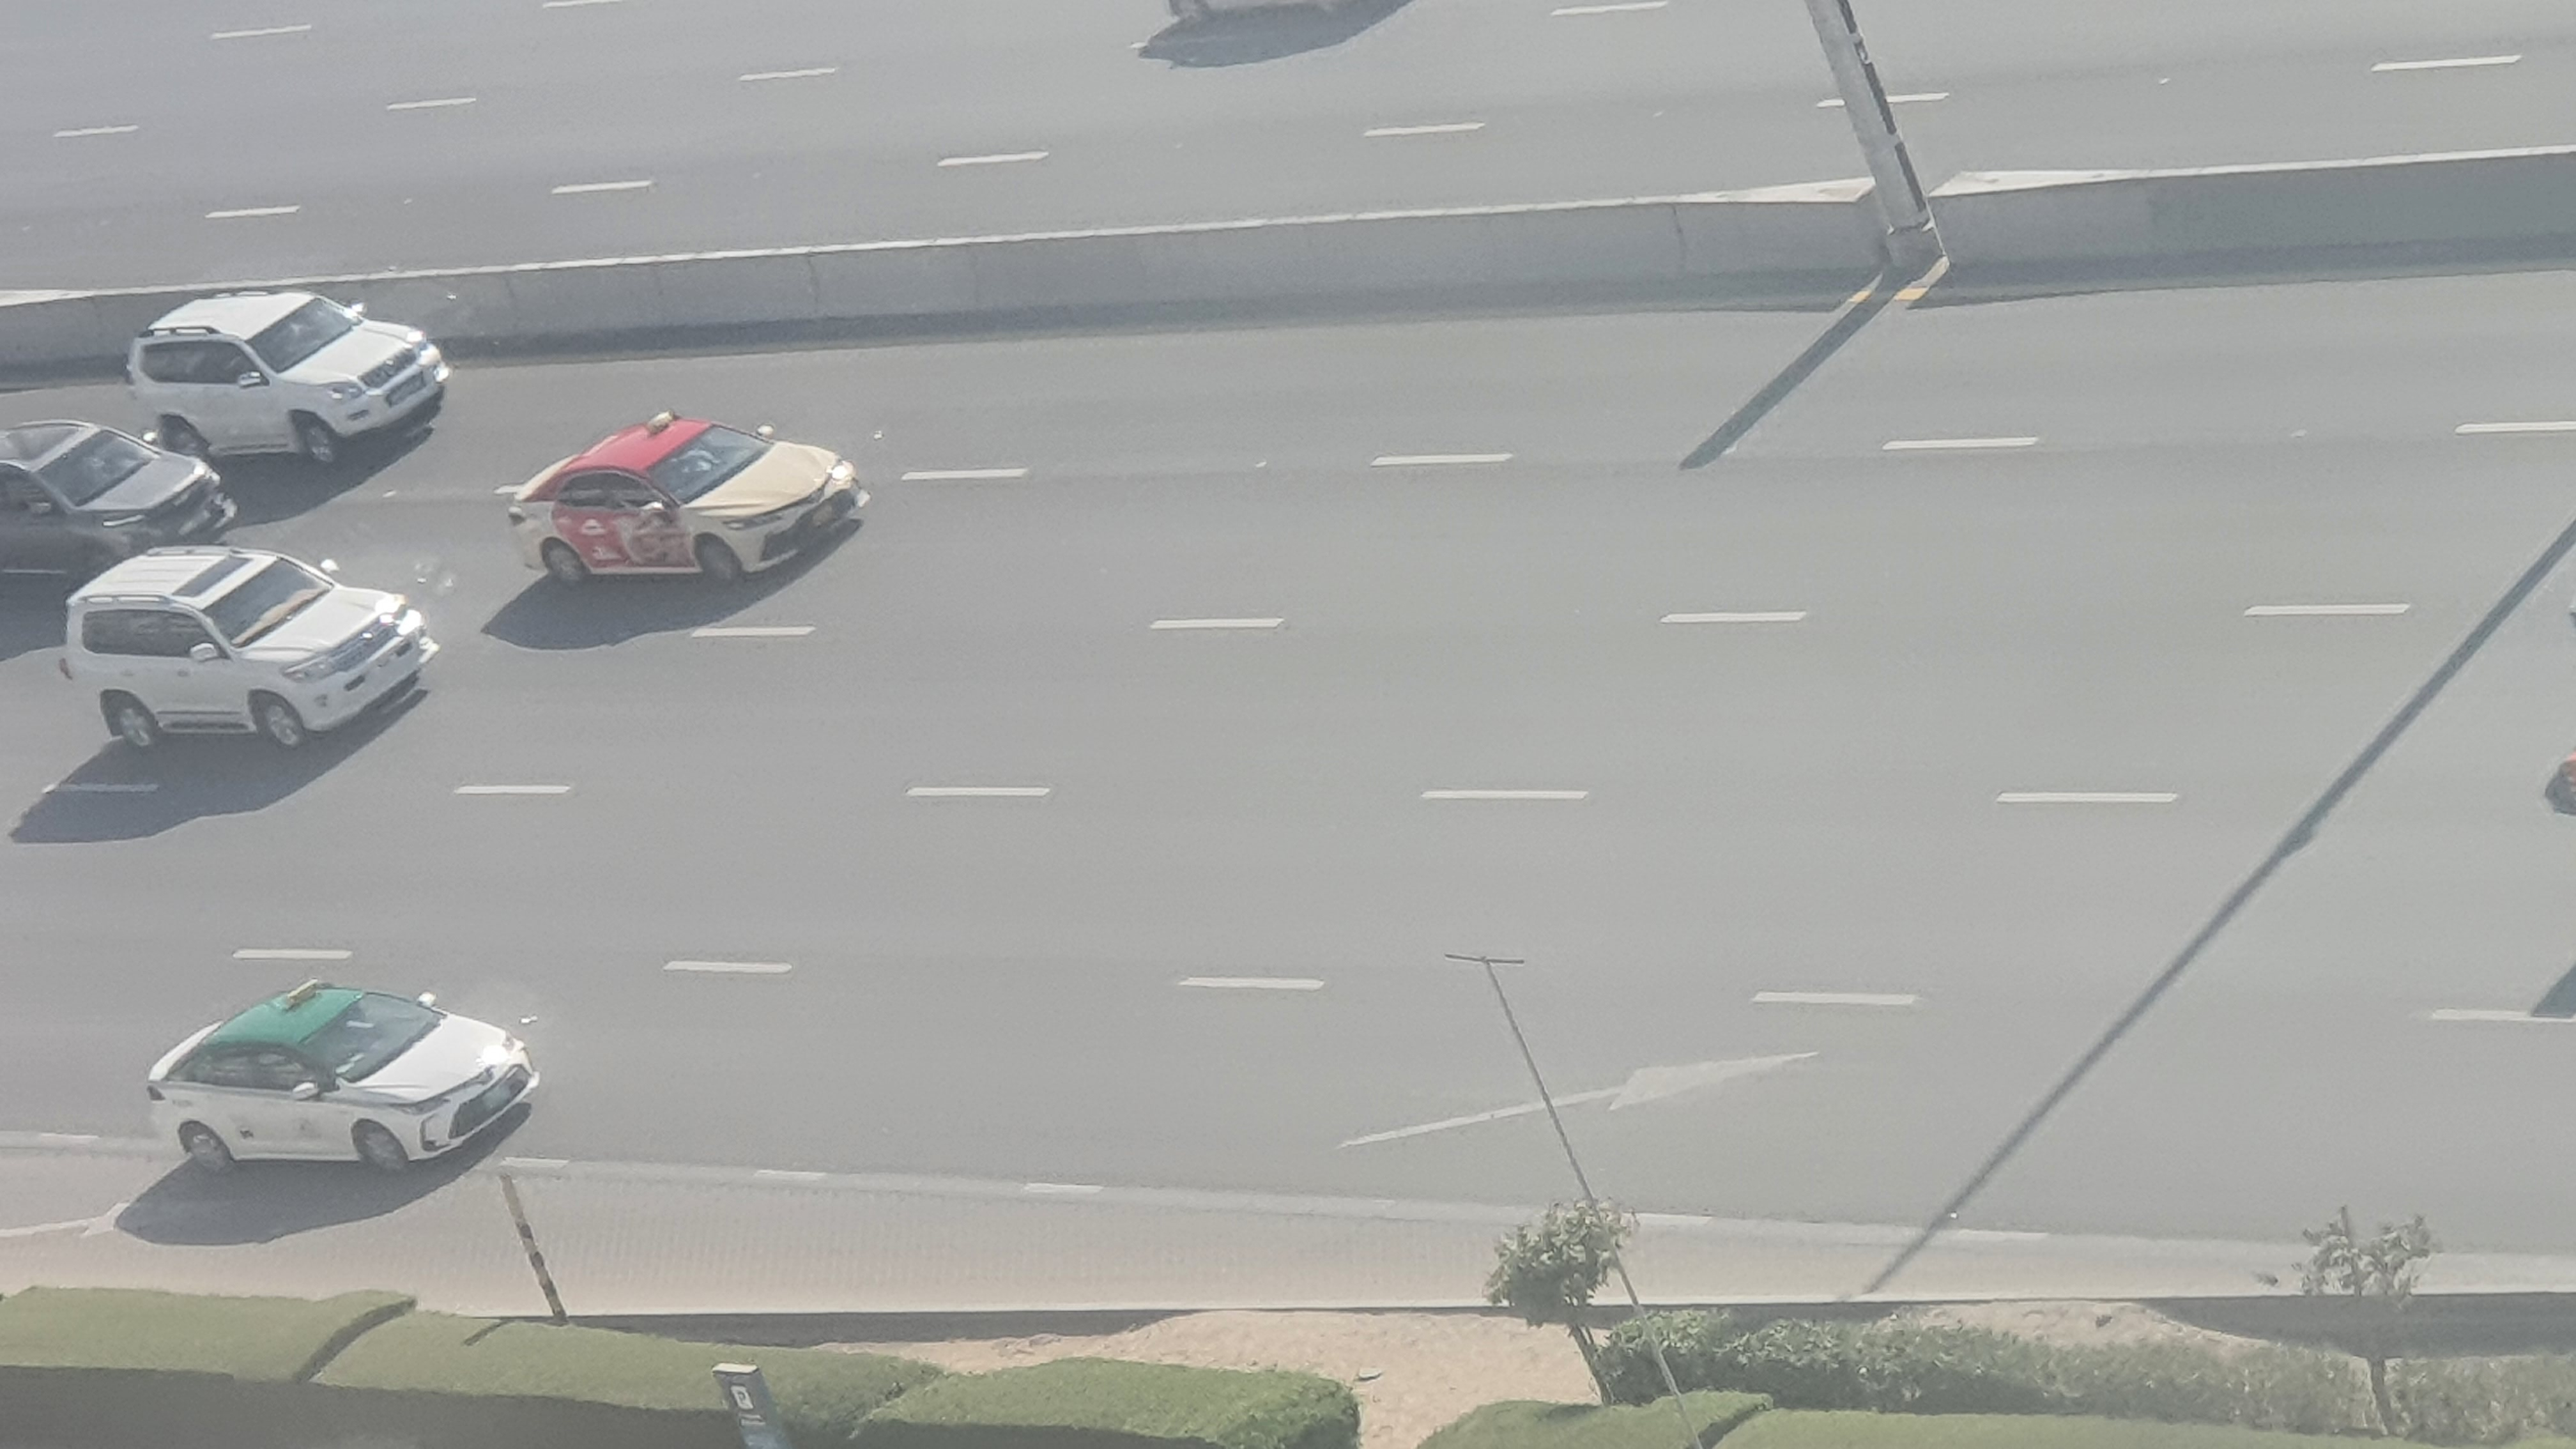NotSunroof: (142, 985, 536, 1178), (504, 409, 872, 591), (117, 292, 456, 456)
Sunroof: (51, 543, 430, 748), (4, 416, 241, 556)
